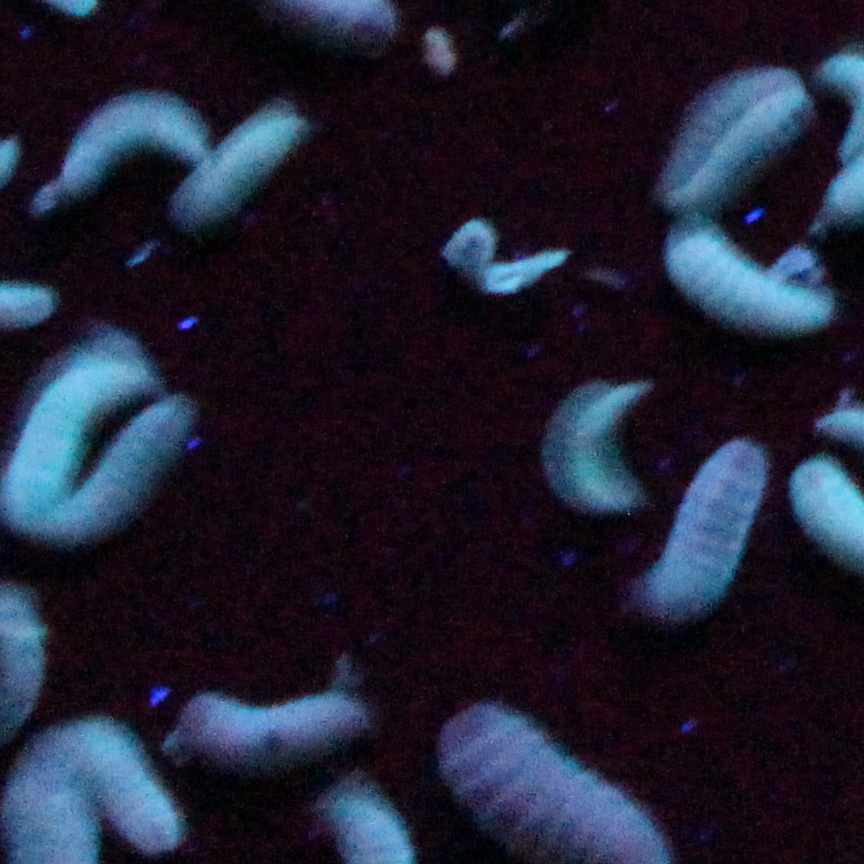larve: (653, 443, 765, 607), (663, 226, 830, 334), (673, 78, 805, 204), (89, 402, 186, 549), (186, 691, 366, 770), (70, 719, 177, 851), (67, 93, 197, 189), (195, 102, 298, 218), (563, 384, 640, 508)
